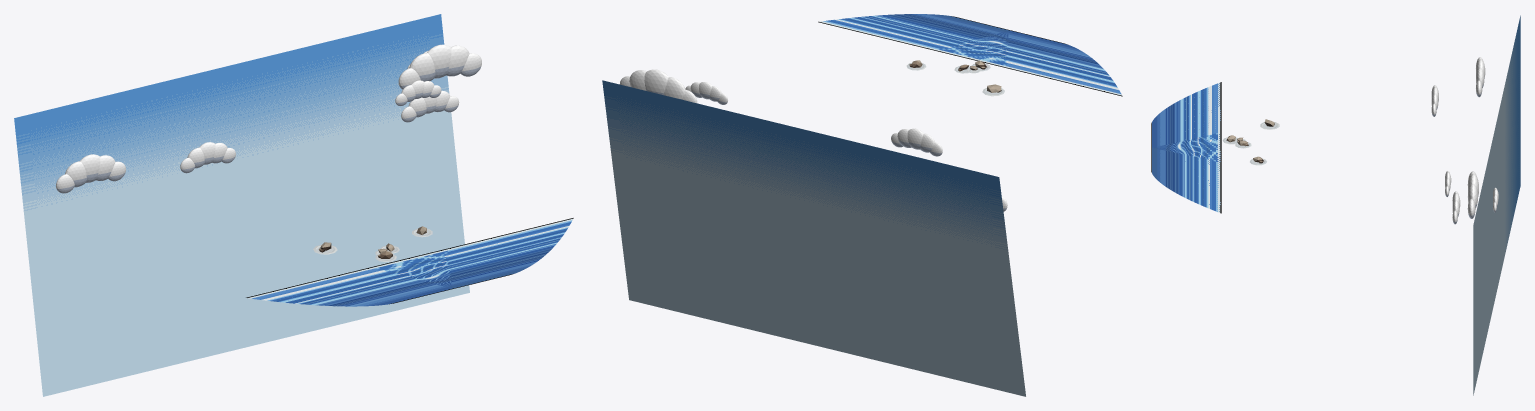
The model's file is bg_water.glb.
3 renders of one model, left to right at view 1: azimuth 30°, elevation 25°; view 2: azimuth 150°, elevation 25°; view 3: azimuth 270°, elevation 25°, orthographic. The views are drawn at different scales.
Visible parts, largest first — view 1: sky, sea, clouds, sea_decor; view 2: sky, sea, clouds, sea_decor; view 3: sky, sea, clouds, sea_decor.
Part boxes in pixels (left/top/right/bottom): sky: left=14, top=14, right=469, bottom=396; sea: left=246, top=218, right=573, bottom=306; clouds: left=56, top=44, right=481, bottom=193; sea_decor: left=313, top=226, right=432, bottom=261; sky: left=602, top=80, right=1025, bottom=396; sea: left=818, top=14, right=1122, bottom=96; clouds: left=619, top=69, right=1007, bottom=211; sea_decor: left=906, top=60, right=1004, bottom=96; sky: left=1473, top=15, right=1520, bottom=395; sea: left=1151, top=82, right=1221, bottom=213; clouds: left=1431, top=57, right=1498, bottom=224; sea_decor: left=1222, top=119, right=1279, bottom=165.
Bounding box in the file's own units: 107 × 59.92 × 94.79.
Materials: 5 (2 with a texture image).
